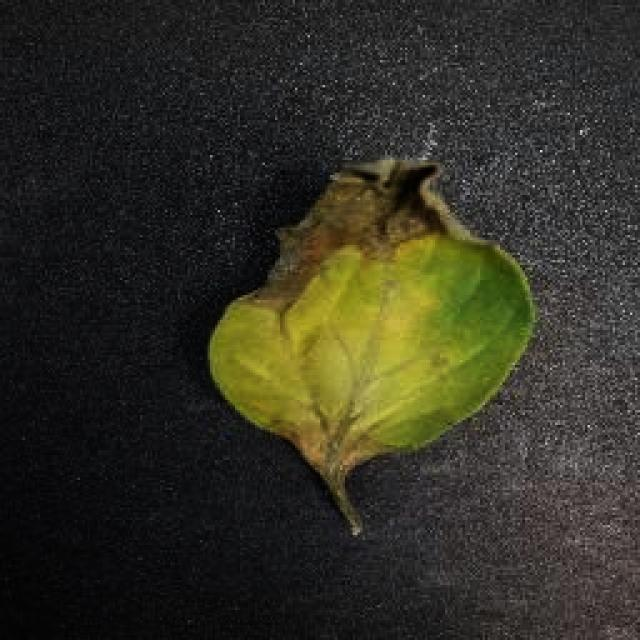Tomato late blight leaf: (203, 145, 530, 465)
